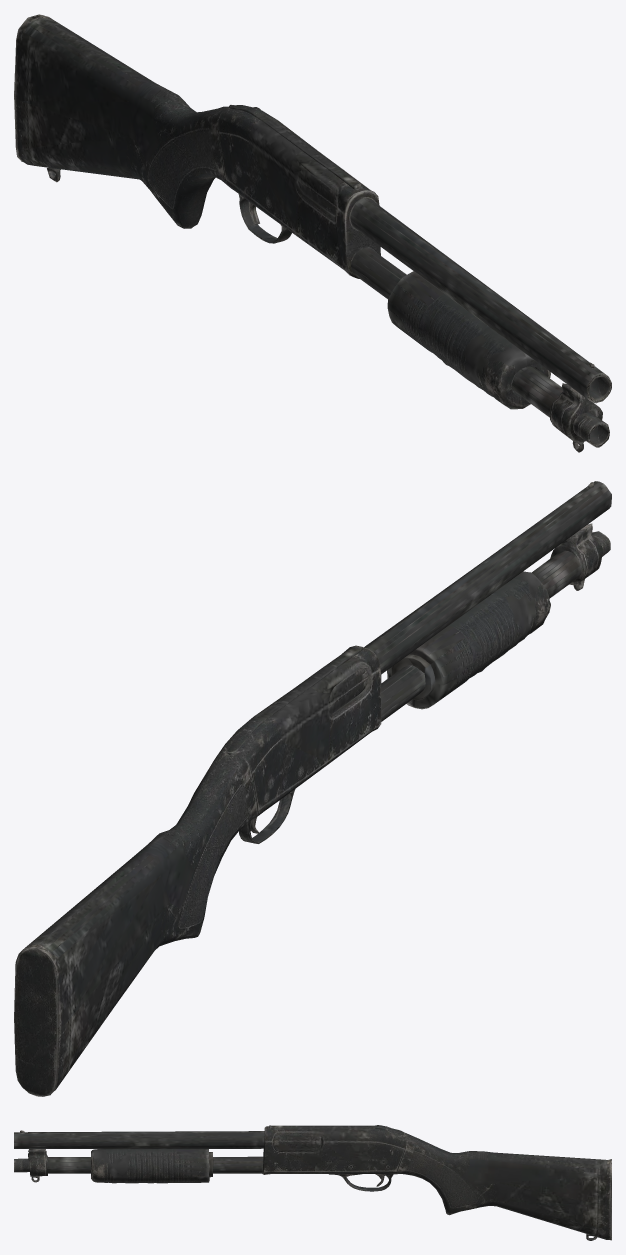
Rendered from shotgun_prop.glb.
3 renders of one model, top to bottom at view 1: azimuth 30°, elevation 25°; view 2: azimuth 150°, elevation 25°; view 3: azimuth 270°, elevation 25°, orthographic. The views are drawn at different scales.
Parts seen in each view (by area): view 1: Mesh_0; view 2: Mesh_0; view 3: Mesh_0.
Part boxes in pixels (bbox=[...]): Mesh_0: bbox=[14, 14, 611, 452]; Mesh_0: bbox=[14, 481, 611, 1096]; Mesh_0: bbox=[14, 1125, 611, 1240].
Bounding box in the file's own units: 0.055 × 0.2013 × 0.95.
1 material, 1 textured.
